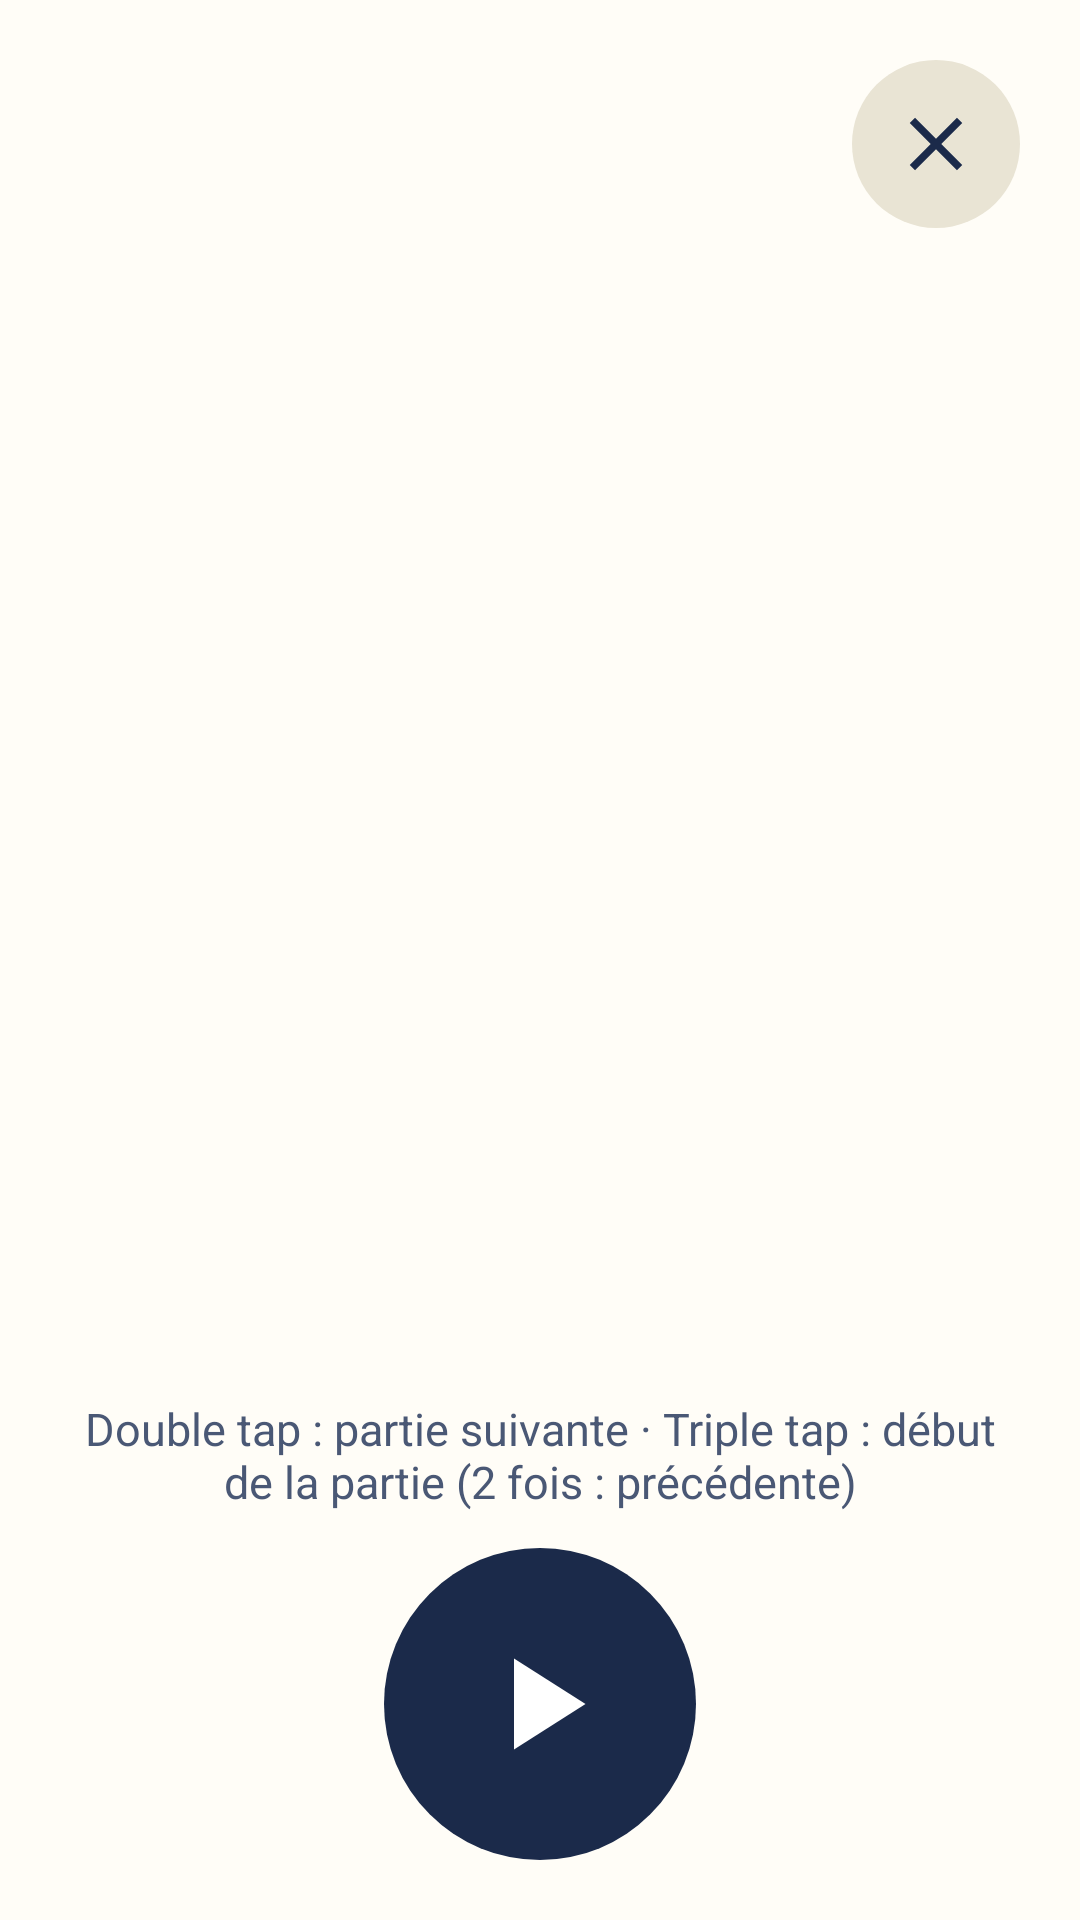

Locate icon controls on the screen. Image size 1080×1920, boxes as bbox=[x1, y1, x2, y2].
Fermer: bbox=[852, 60, 1020, 228]
Lire: bbox=[384, 1548, 696, 1860]
